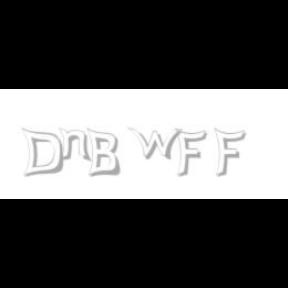B: (86, 128, 120, 178)
D: (21, 128, 64, 178)
F: (175, 128, 207, 178), (213, 128, 245, 178)
n: (58, 128, 92, 162)
w: (127, 128, 186, 160)
